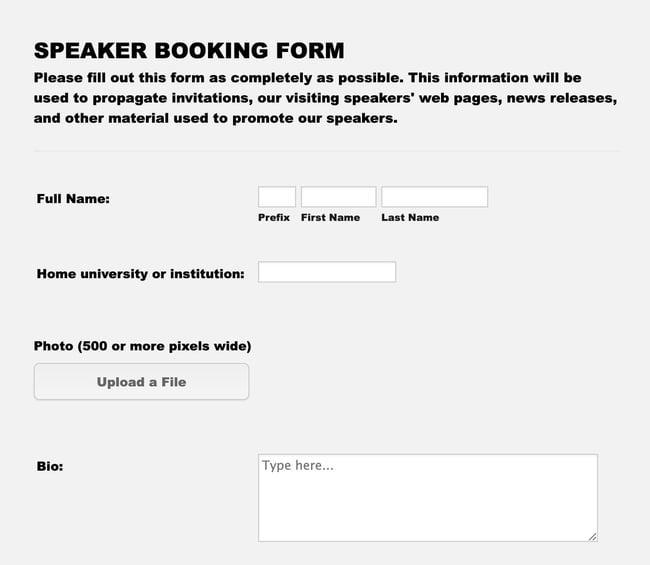button: (35, 364, 250, 400)
input: (260, 263, 397, 283), (382, 187, 490, 209), (302, 187, 377, 208), (259, 186, 297, 209)
label: (33, 337, 256, 359), (33, 265, 248, 286), (33, 190, 114, 210), (380, 212, 443, 226), (301, 214, 365, 224), (36, 457, 65, 476), (257, 212, 295, 225)
